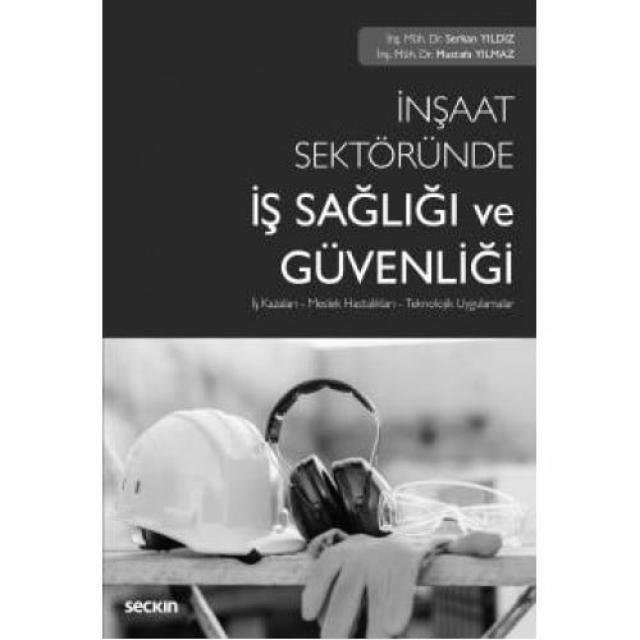safety_helmet: (111, 410, 305, 561)
